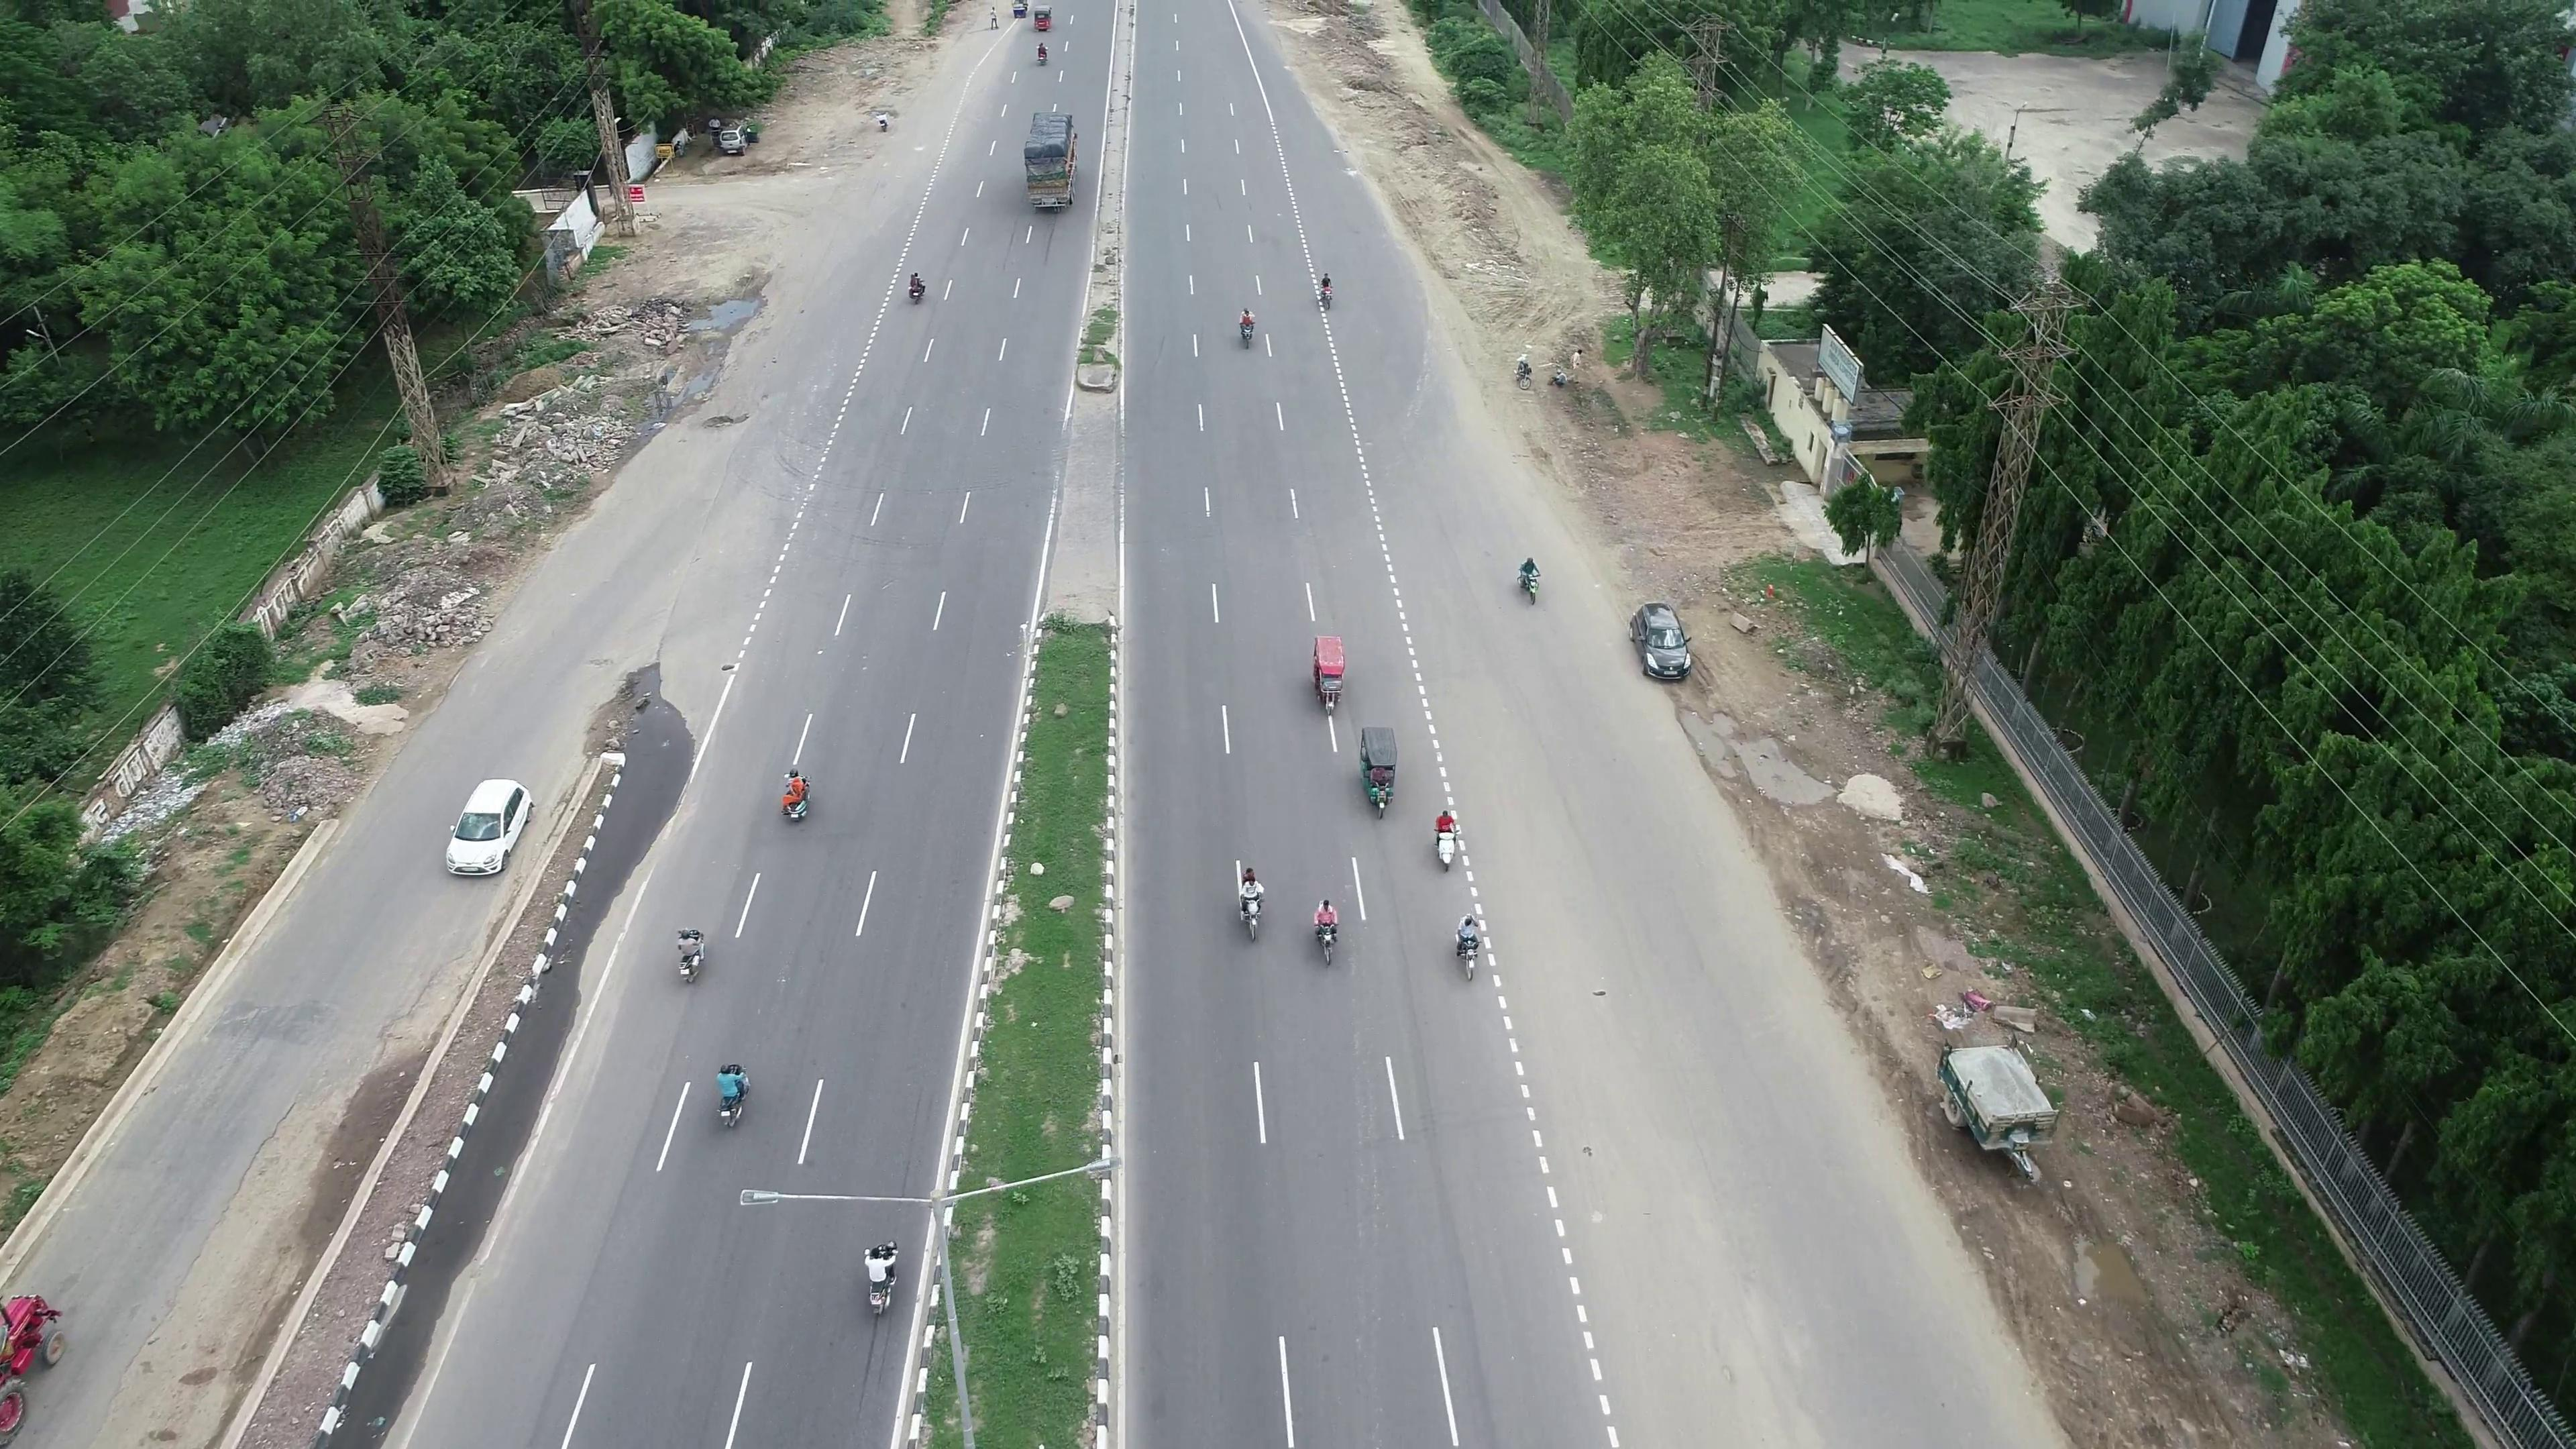Potholes: (683, 400, 757, 442)
